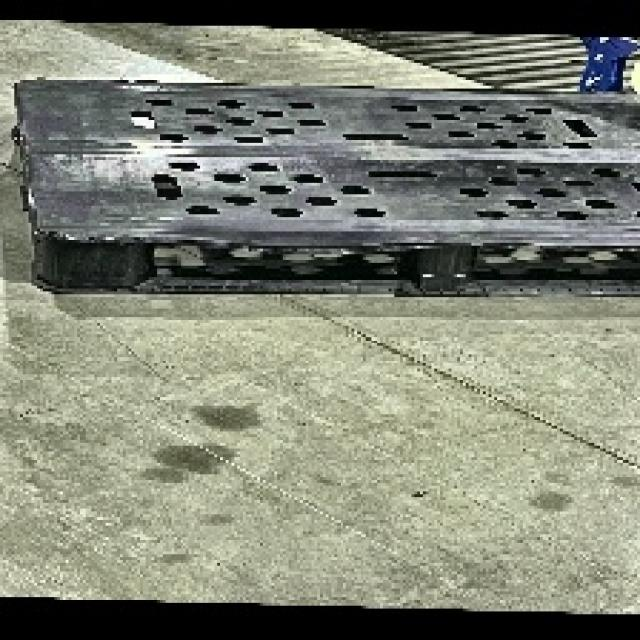igps: (8, 72, 640, 304)
